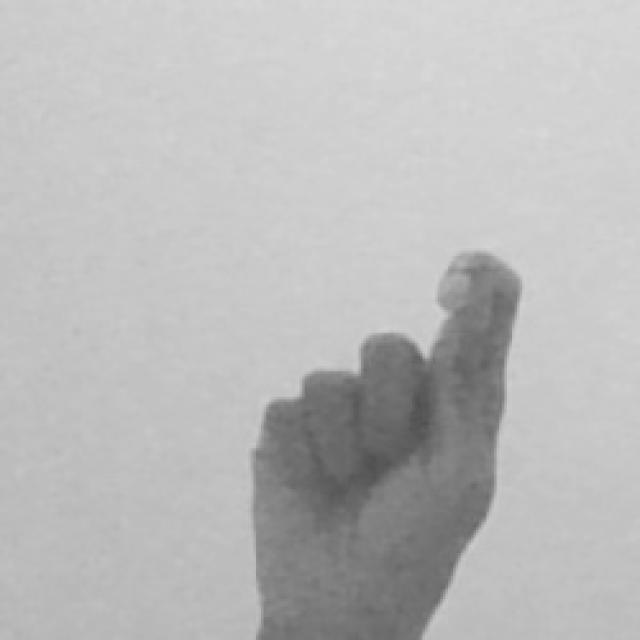T: (240, 245, 527, 640)
